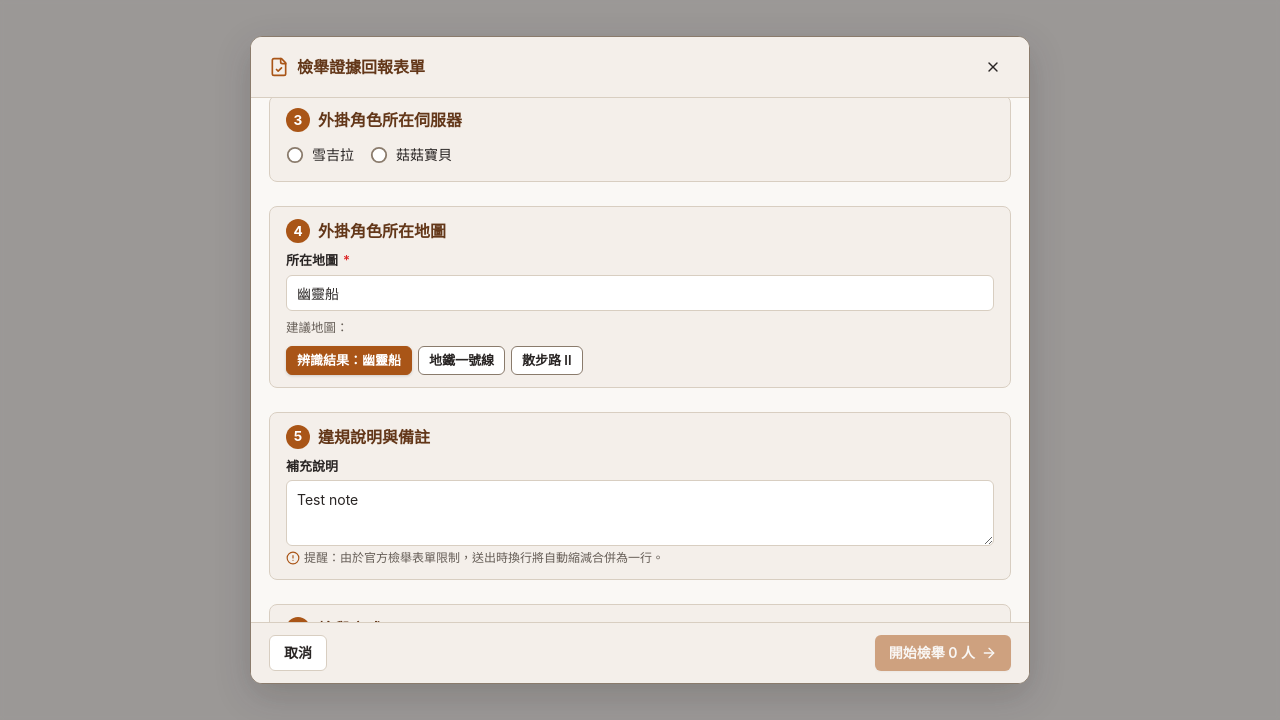
ReportFlowModal evidence selection › orders history maps with the latest first and deduplicates against OCR map
The image size is (1280, 720).
(page scrolled)
Check: the button with test id "ocr-map-suggestion" reads "辨識結果：幽靈船", box [286, 346, 412, 374]
Check: the button with test id "history-map-suggestion-1" reads "散步路 II", box [511, 346, 582, 374]
// Clicking a history chip should select it
Step 1. Click the button with test id "history-map-suggestion-0" → (462, 360), box [418, 346, 505, 374]
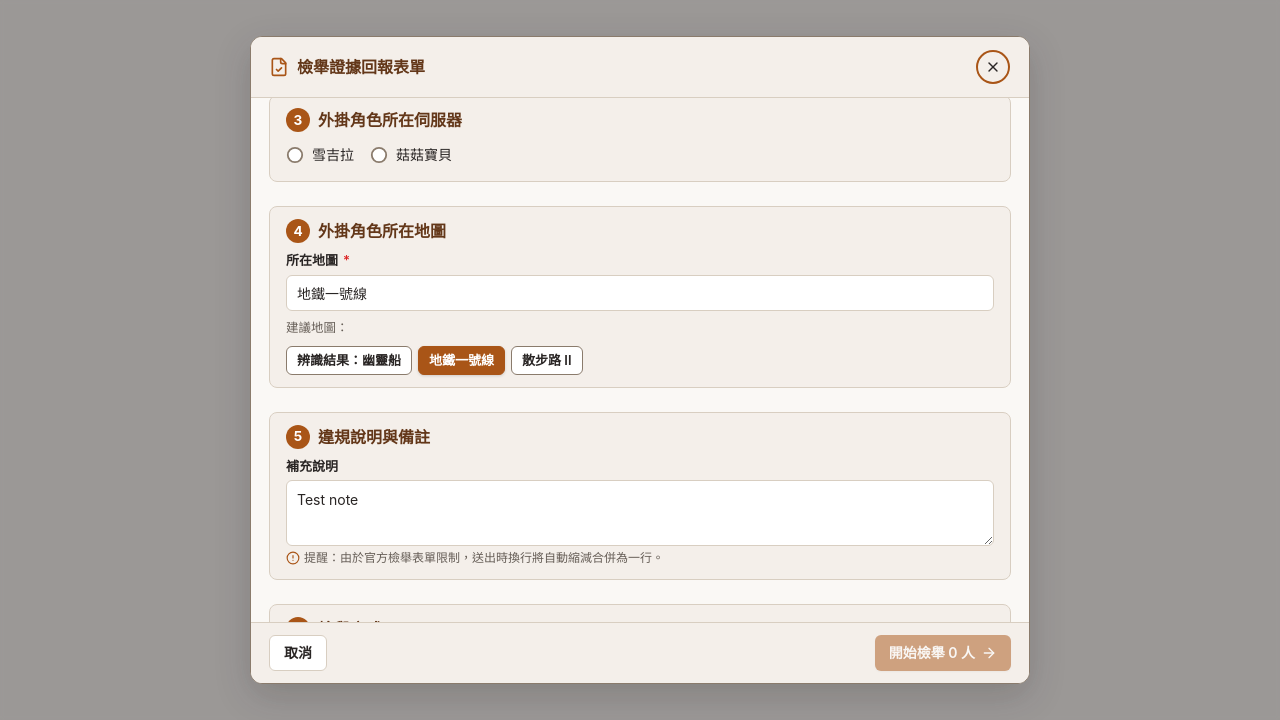
Check: the field with test id "report-map-name" holds "地鐵一號線", box [287, 276, 993, 310]
